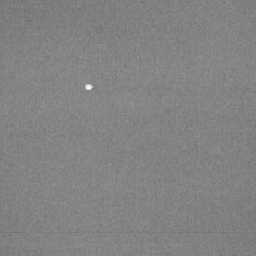Target: (83, 82, 94, 91)
